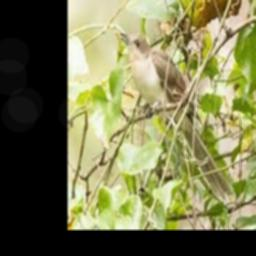Cuckoo: (121, 31, 234, 201)
